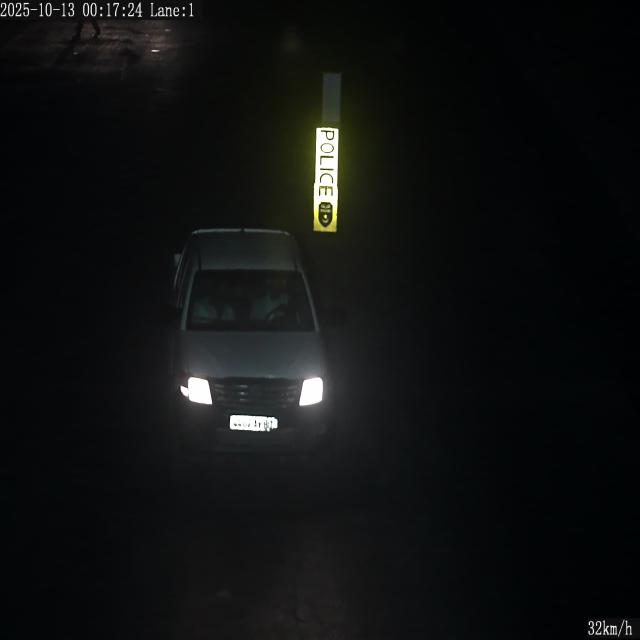BUS: (230, 415, 277, 431)
